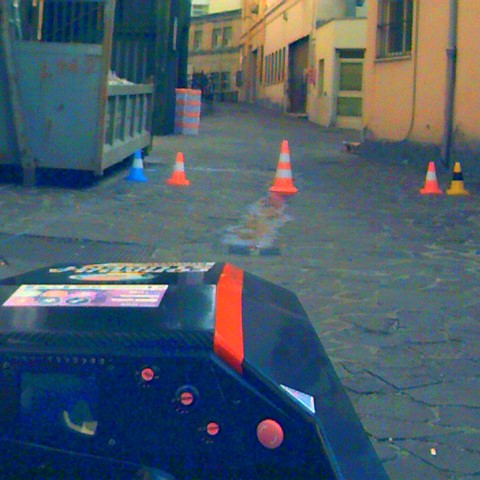cone: (125, 148, 148, 184)
